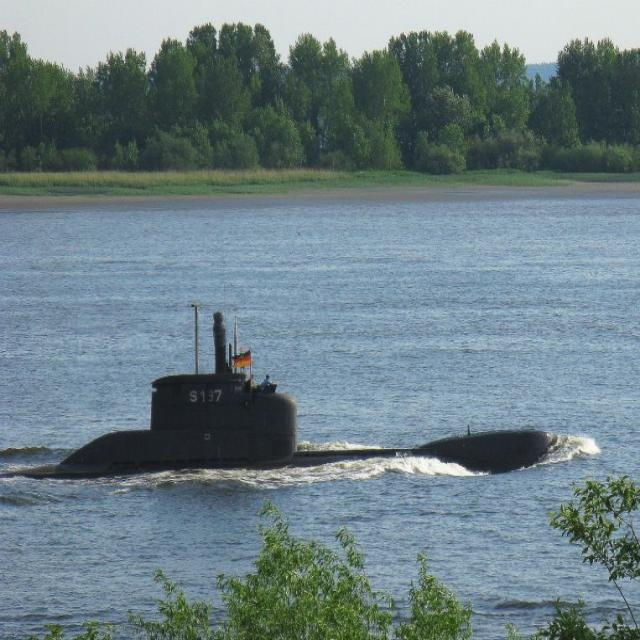submarine: (15, 366, 567, 479)
